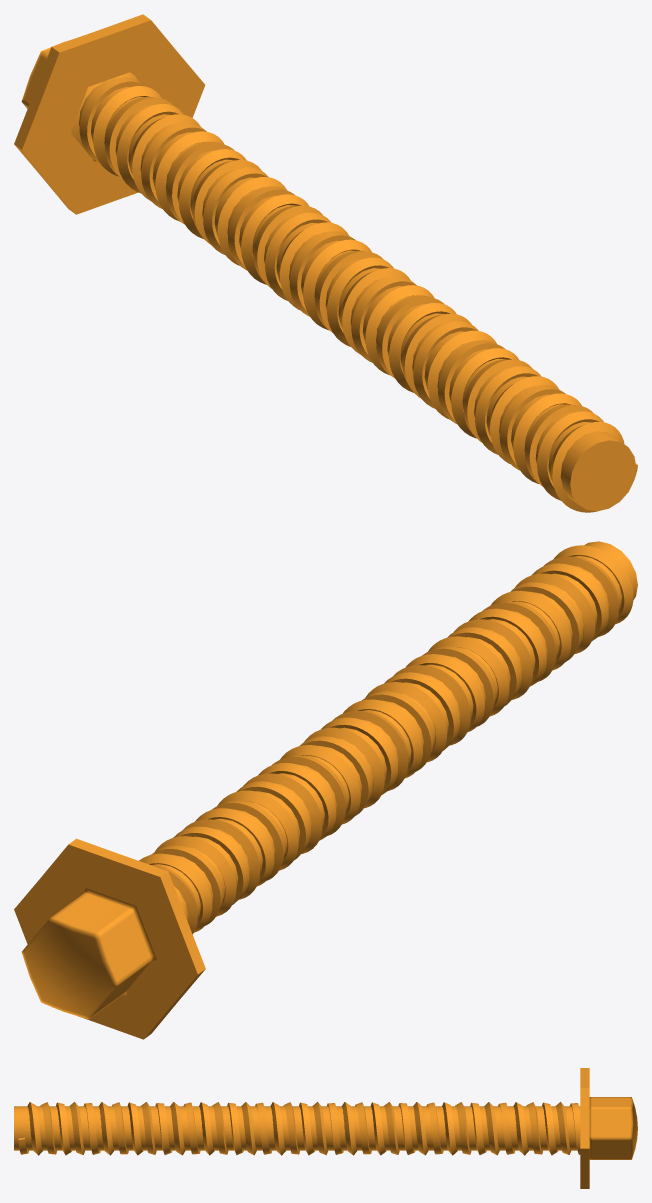
Rendered from bolt.FBX.
The picture shows the model from 3 angles, top to bottom: view 1: azimuth 30°, elevation 25°; view 2: azimuth 150°, elevation 25°; view 3: azimuth 270°, elevation 25°; orthographic projection. The views are drawn at different scales.
Visible parts, largest first — view 1: gaiki001; view 2: gaiki001; view 3: gaiki001.
Boxes of the visible parts, x1,y1,x2,y2 form: gaiki001: [14, 14, 637, 512]; gaiki001: [14, 541, 637, 1039]; gaiki001: [14, 1068, 637, 1188].
Size of the model in its own units: 0.4934 by 0.4534 by 2.51.
